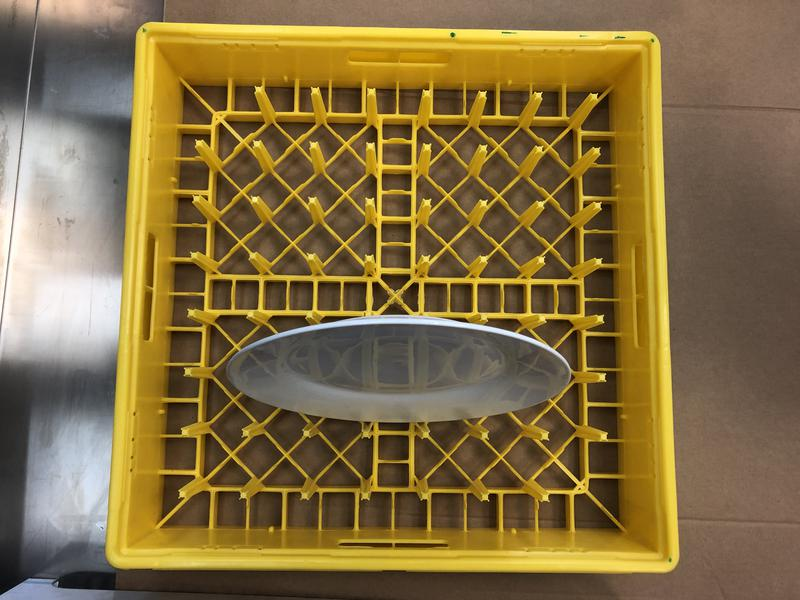Dish: (225, 315, 571, 426)
